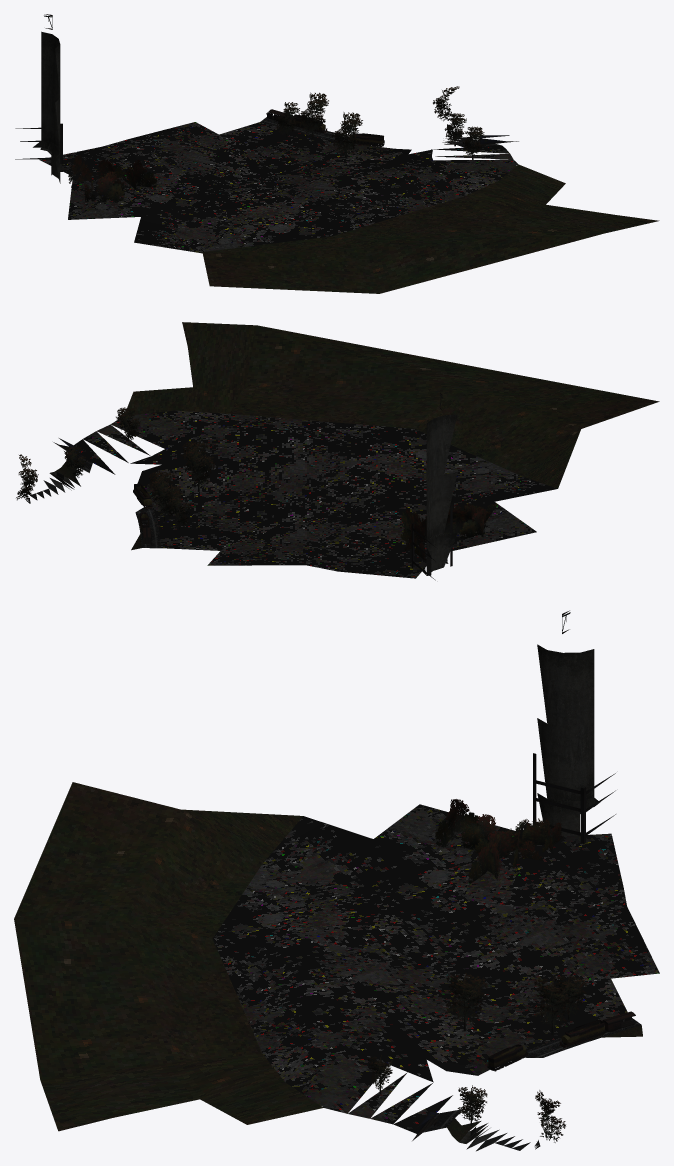
The model's file is cell_12_1.gltf.
The picture shows the model from 3 angles, top to bottom: view 1: azimuth 30°, elevation 25°; view 2: azimuth 150°, elevation 25°; view 3: azimuth 270°, elevation 25°; orthographic projection. The views are drawn at different scales.
Parts seen in each view (by area): view 1: cell_12_1; view 2: cell_12_1; view 3: cell_12_1.
Boxes of the visible parts, x1,y1,x2,y2 form: cell_12_1: (15,14,659,293); cell_12_1: (16,322,659,580); cell_12_1: (14,610,659,1151).
Bounding box in the file's own units: 301 × 127 × 269.
30 materials, 30 textured.
